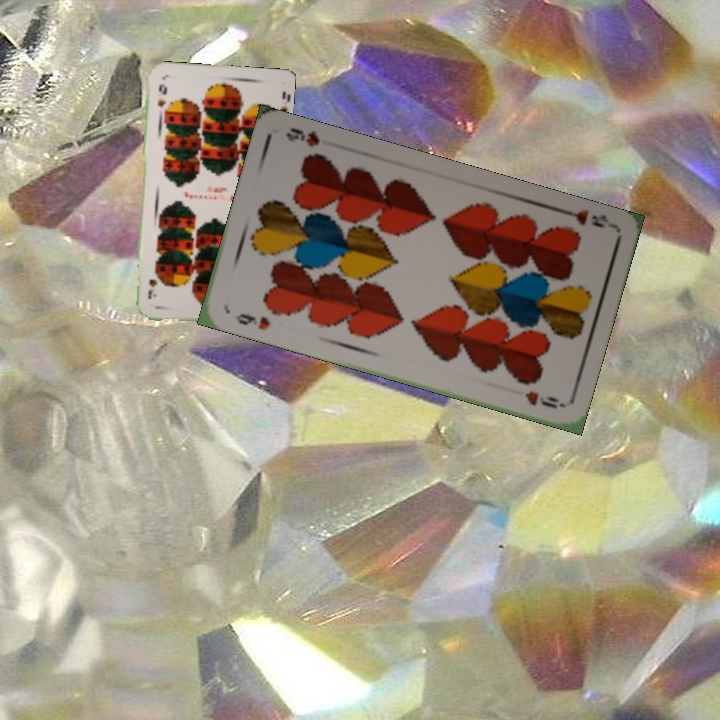H9: (557, 204, 611, 231), (232, 309, 273, 333)
S9: (154, 79, 169, 109)
